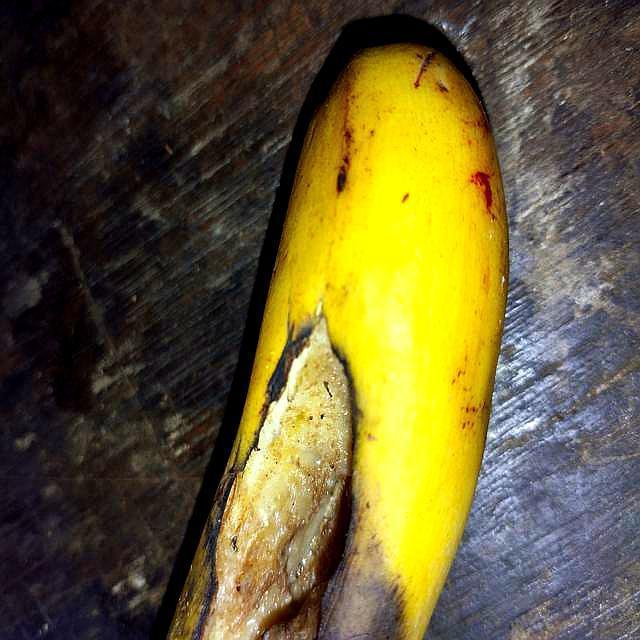Biodegradable: (171, 41, 505, 640)
